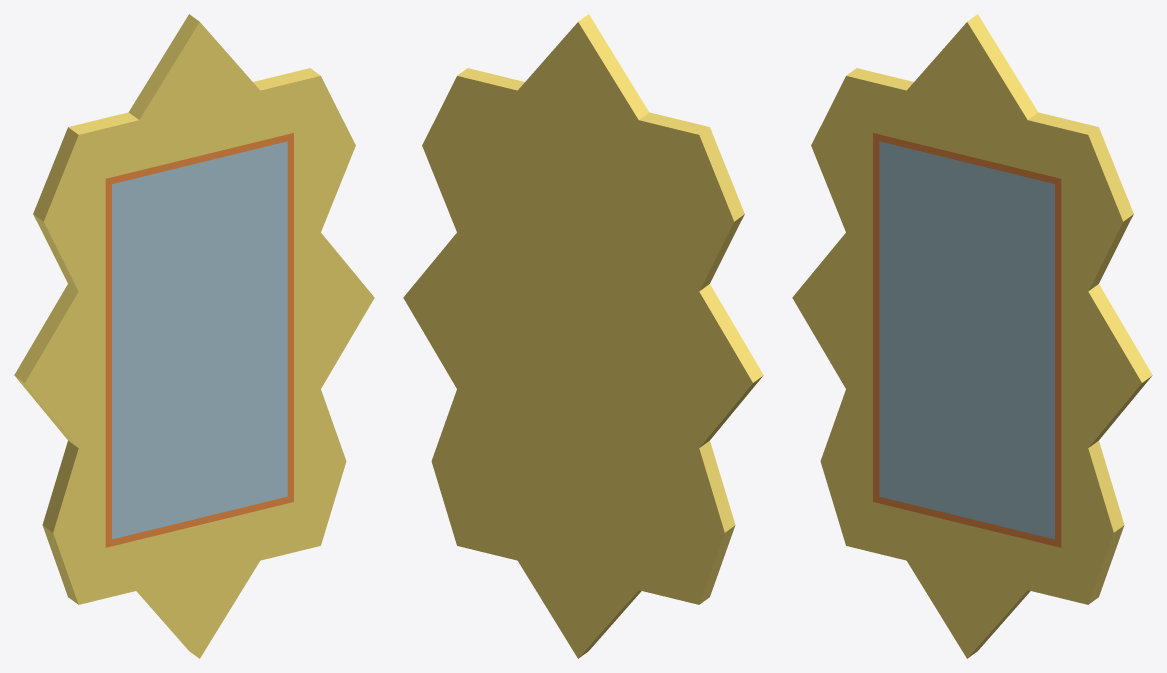
File: Mirror_1.fbx
The picture shows the model from 3 angles, left to right: view 1: azimuth 30°, elevation 25°; view 2: azimuth 150°, elevation 25°; view 3: azimuth 330°, elevation 25°; orthographic projection.
Visible parts, largest first — view 1: Mirror_1; view 2: Mirror_1; view 3: Mirror_1.
Boxes of the visible parts, <box> form: Mirror_1: <box>14,14,374,658</box>; Mirror_1: <box>403,14,763,658</box>; Mirror_1: <box>792,14,1152,658</box>.
Bounding box in the file's own units: 46.74 × 2.47 × 81.34.
